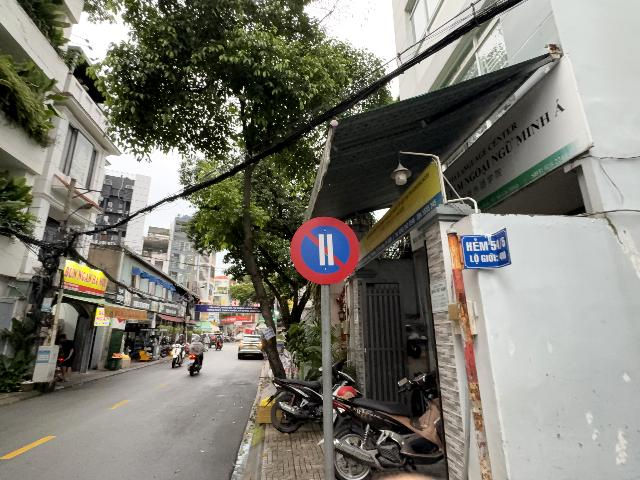cam-do-xe-ngay-chan: (290, 216, 359, 285)
